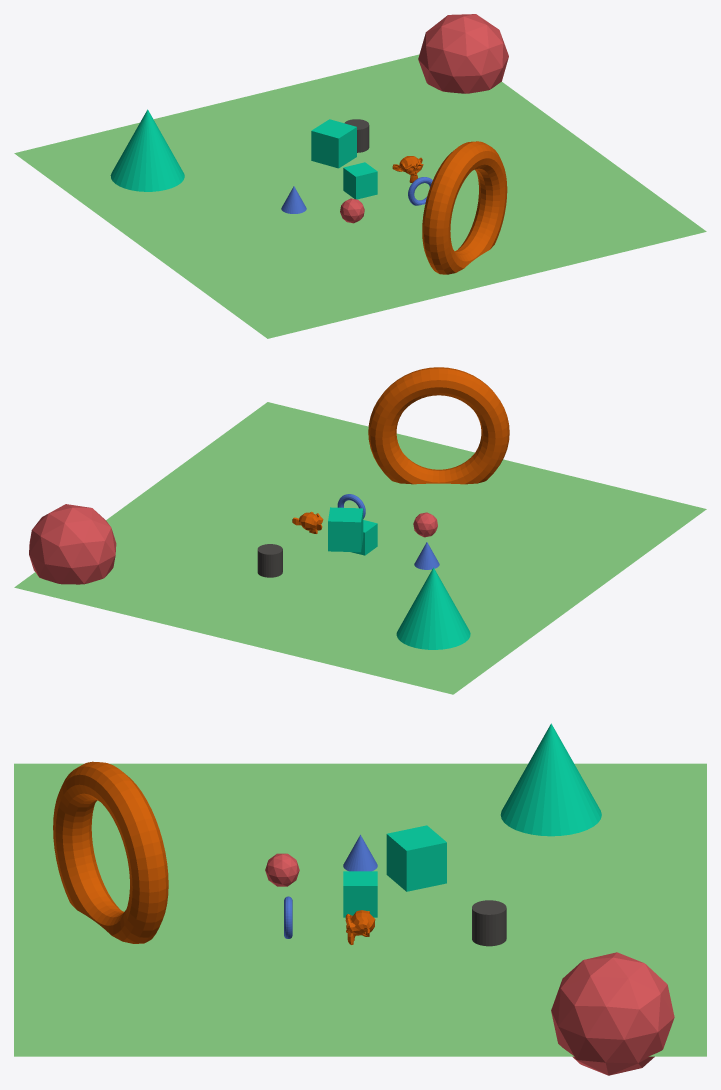
3 renders of one model, top to bottom at view 1: azimuth 30°, elevation 25°; view 2: azimuth 150°, elevation 25°; view 3: azimuth 270°, elevation 25°, orthographic. The views are drawn at different scales.
Visible parts, largest first — view 1: Grid, Torus.001, Icosphere.001, Cone.001, Cube.001, Cube; view 2: Grid, Torus.001, Icosphere.001, Cone.001, Cube.001, Cylinder; view 3: Grid, Torus.001, Icosphere.001, Cone.001, Cube.001, Cylinder, Cube, Icosphere, Cone, Suzanne.
Boxes of the visible parts, x1,y1,x2,y2 form: Grid: (14, 54, 706, 338); Torus.001: (422, 141, 507, 274); Icosphere.001: (418, 14, 508, 93); Cone.001: (110, 109, 184, 191); Cube.001: (311, 119, 356, 168); Cube: (343, 162, 377, 199); Grid: (14, 402, 706, 694); Torus.001: (368, 367, 509, 484); Icosphere.001: (29, 504, 116, 584); Cone.001: (396, 567, 470, 649); Cube.001: (328, 507, 363, 552); Cylinder: (257, 544, 282, 577); Grid: (14, 763, 706, 1056); Torus.001: (53, 761, 168, 943); Icosphere.001: (551, 952, 674, 1075); Cone.001: (500, 723, 601, 836); Cube.001: (386, 825, 446, 891); Cylinder: (472, 900, 506, 946); Cube: (343, 871, 377, 917); Icosphere: (265, 853, 299, 886); Cone: (343, 834, 377, 871); Suzanne: (345, 910, 375, 944).
Size of the model in its own units: 41.33 by 11.47 by 40.
